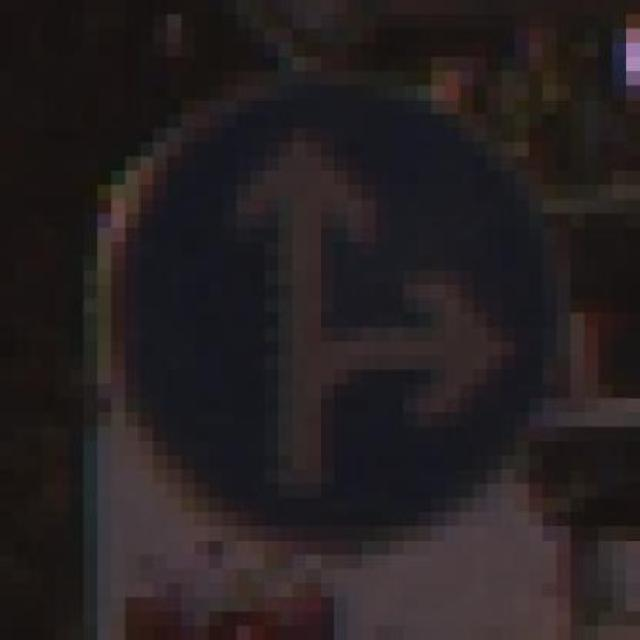Go Straight or Turn Right: (97, 43, 585, 569)
